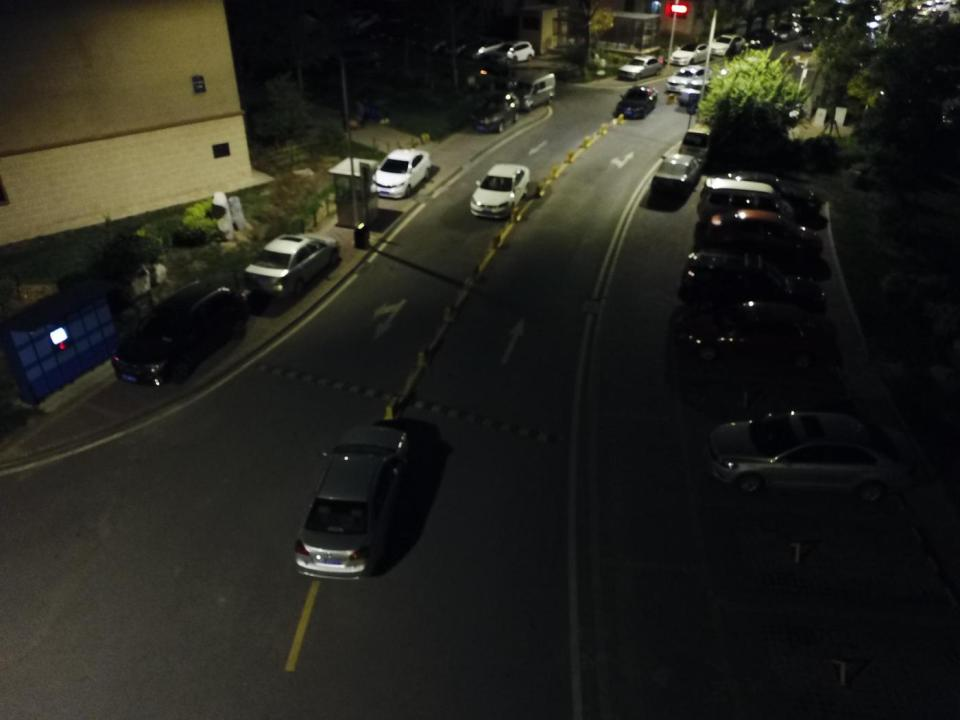car: (702, 410, 918, 507), (293, 422, 411, 582), (110, 281, 253, 386), (678, 297, 842, 378), (680, 246, 828, 318), (700, 208, 829, 268), (244, 230, 339, 302), (712, 166, 829, 222), (468, 162, 531, 221), (373, 148, 431, 198), (470, 87, 520, 137), (650, 154, 699, 197), (613, 78, 658, 119), (678, 77, 722, 107), (665, 66, 712, 94), (619, 52, 664, 80), (491, 38, 537, 65), (471, 64, 520, 89), (671, 39, 713, 65), (442, 32, 486, 56), (715, 60, 754, 86), (467, 35, 508, 58), (744, 56, 782, 78), (712, 34, 747, 57), (748, 28, 778, 52), (772, 18, 802, 42), (799, 30, 831, 52), (799, 14, 827, 34), (917, 0, 934, 17), (936, 1, 952, 12)
van: (699, 176, 794, 232), (678, 114, 728, 159), (512, 68, 560, 108)
